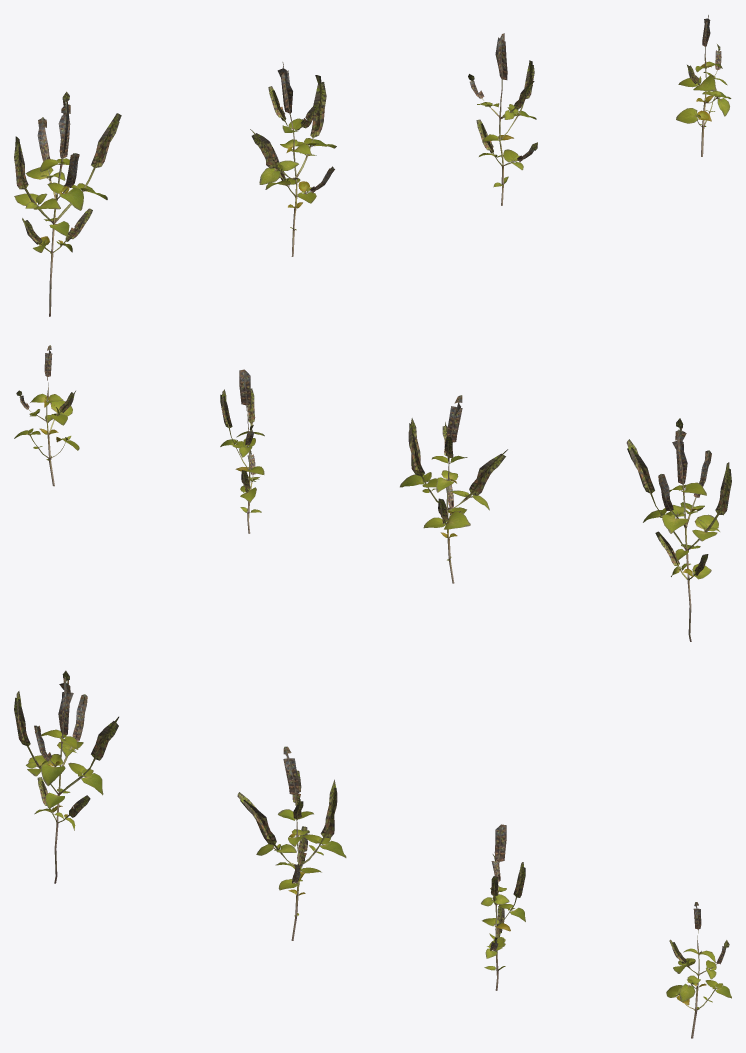
The model's file is shrub_03.glb.
3 views of the same model, one above another, from view 1: azimuth 30°, elevation 25°; view 2: azimuth 150°, elevation 25°; view 3: azimuth 330°, elevation 25° (orthographic). The views are drawn at different scales.
Visible parts, largest first — view 1: shrub_03_a, shrub_03_b, shrub_03_c, shrub_03_d; view 2: shrub_03_a, shrub_03_b, shrub_03_c, shrub_03_d; view 3: shrub_03_a, shrub_03_b, shrub_03_c, shrub_03_d.
Part boxes in pixels (x1=…): shrub_03_a: x1=14, y1=91, x2=121, y2=316; shrub_03_b: x1=250, y1=62, x2=336, y2=256; shrub_03_c: x1=468, y1=33, x2=537, y2=205; shrub_03_d: x1=676, y1=15, x2=731, y2=156; shrub_03_a: x1=626, y1=418, x2=731, y2=641; shrub_03_b: x1=400, y1=395, x2=507, y2=583; shrub_03_c: x1=220, y1=369, x2=264, y2=533; shrub_03_d: x1=14, y1=345, x2=79, y2=486; shrub_03_a: x1=14, y1=670, x2=118, y2=883; shrub_03_b: x1=237, y1=746, x2=346, y2=940; shrub_03_c: x1=481, y1=824, x2=525, y2=990; shrub_03_d: x1=666, y1=902, x2=731, y2=1038.
Bounding box in the file's own units: 1.37 × 0.4028 × 0.1512.
Materials: 1 (1 with a texture image).
